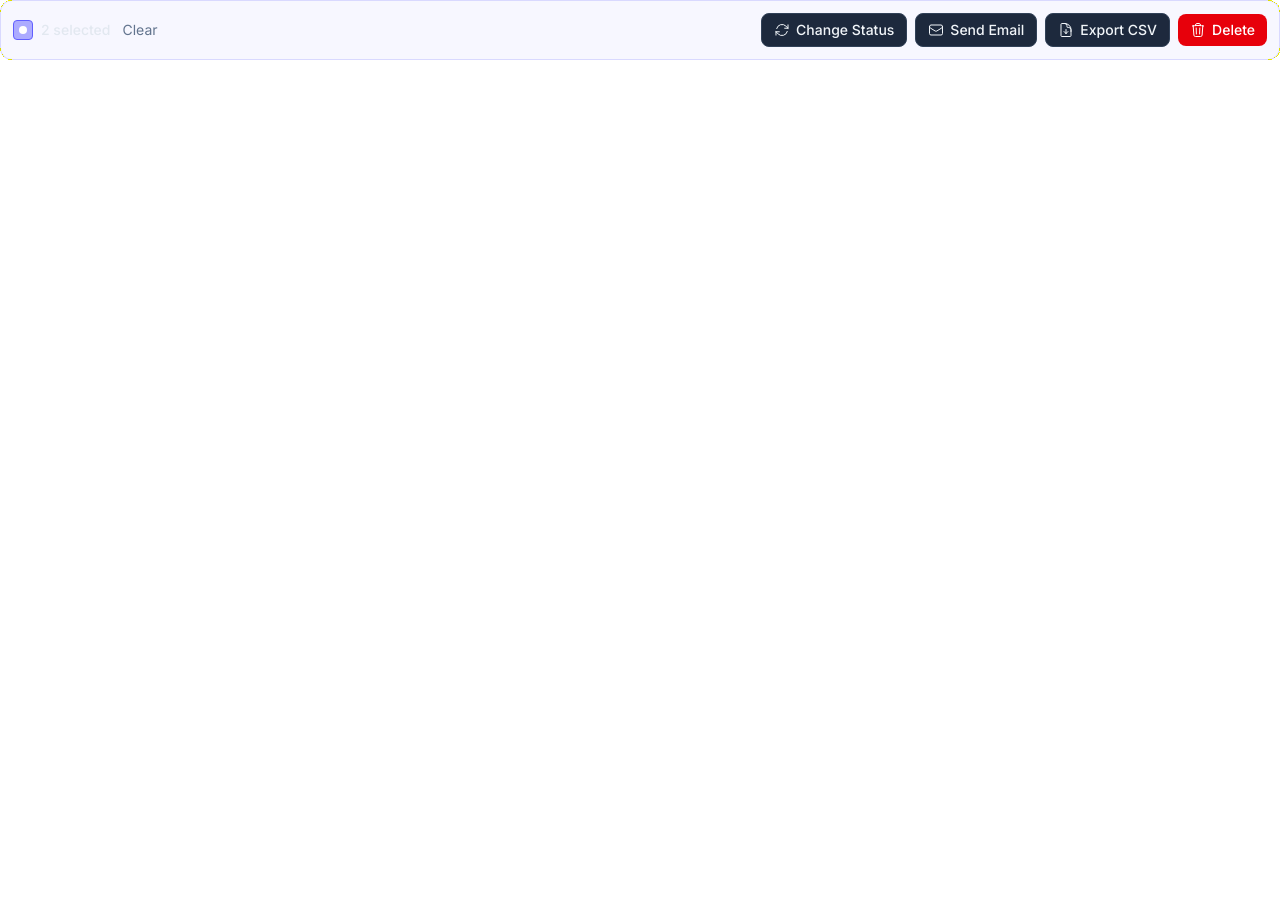
Test: BulkActions › cancels delete when cancel clicked
What coordinates should you click on to do the following:
click the button "Delete"
I would click on:
 (1223, 30)
Its box is [1178,14,1267,46].
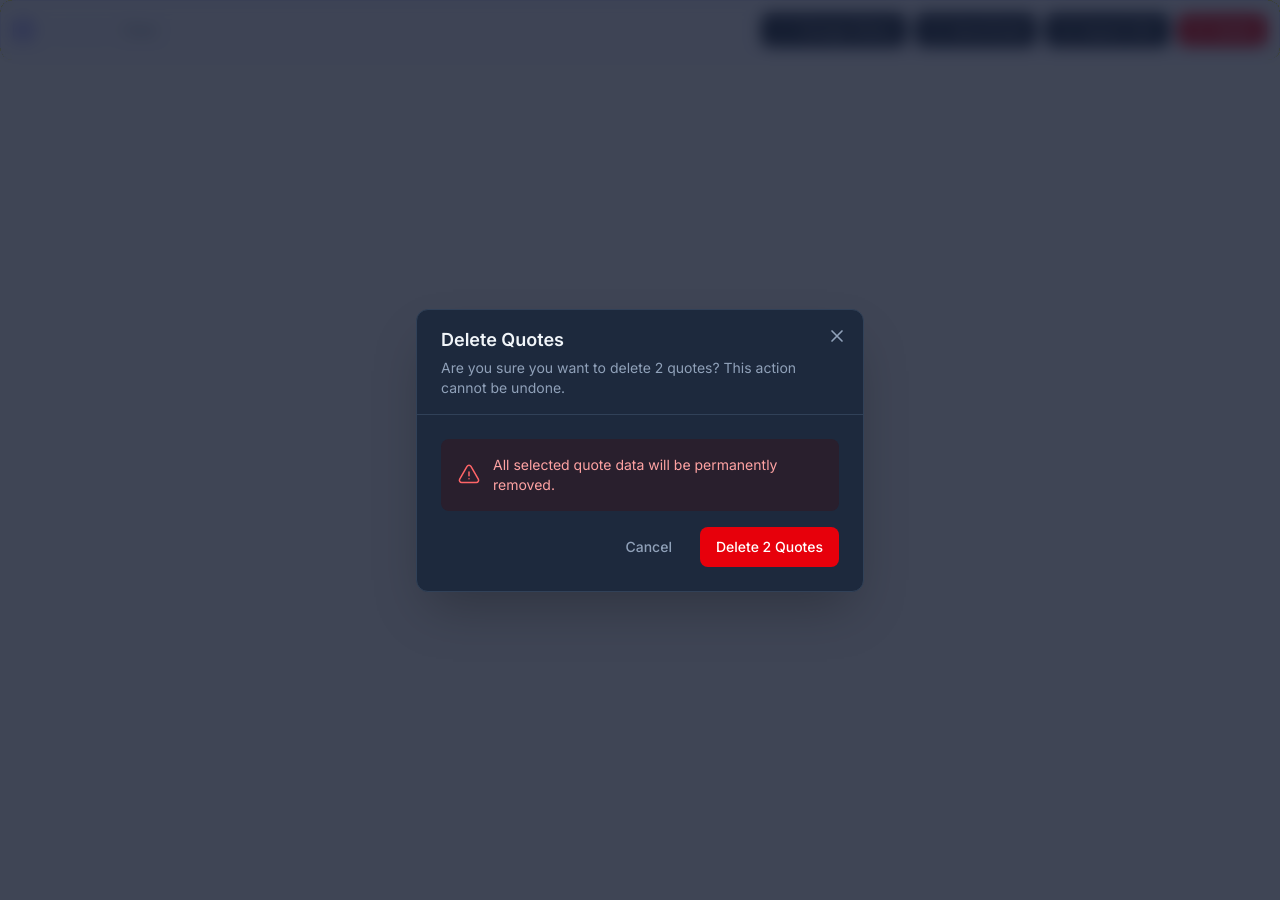
What coordinates should you click on to do the following:
click the button "Cancel"
I would click on:
 (649, 546)
Its box is [609,526,688,566].
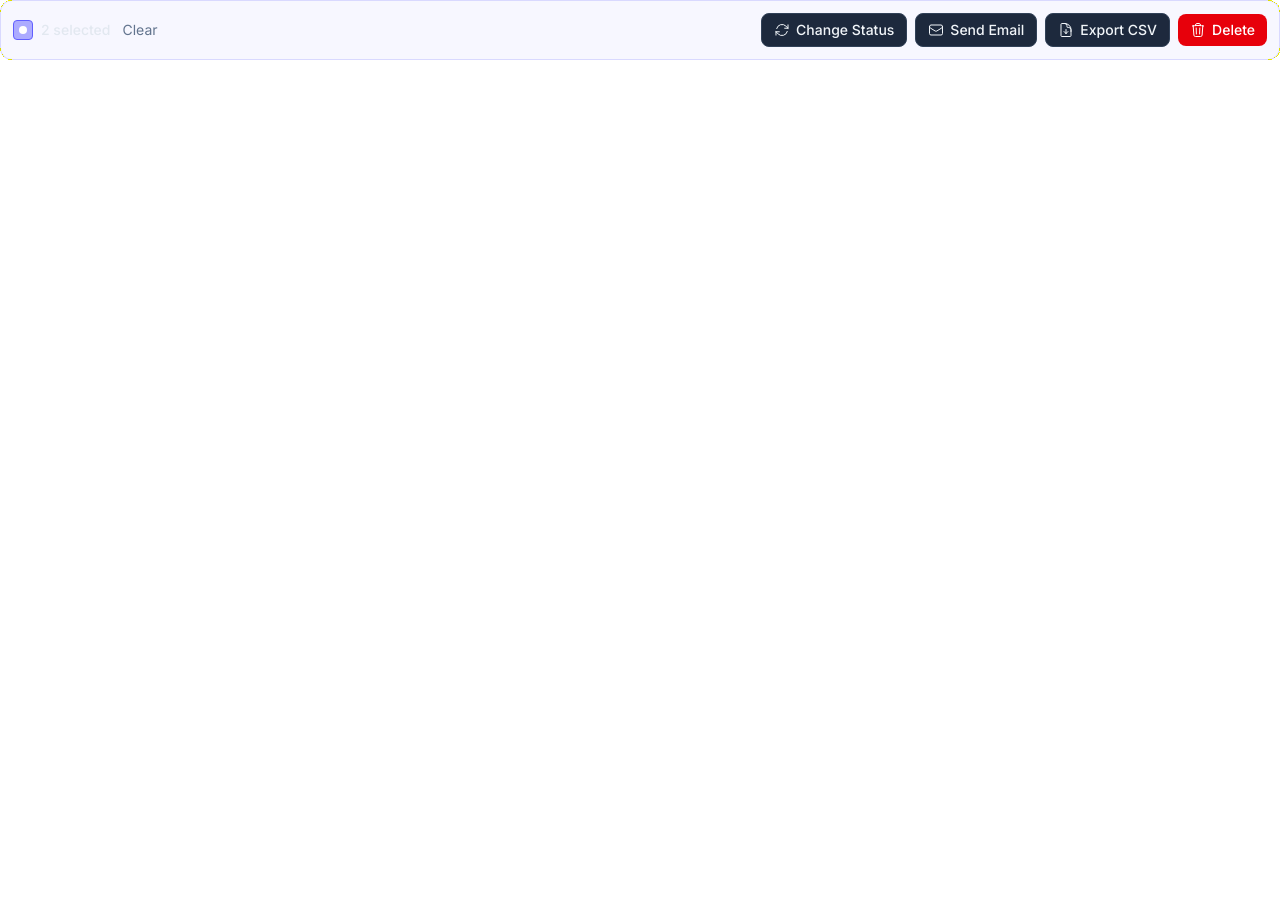
Expected: the text "cannot be undone" is gone
